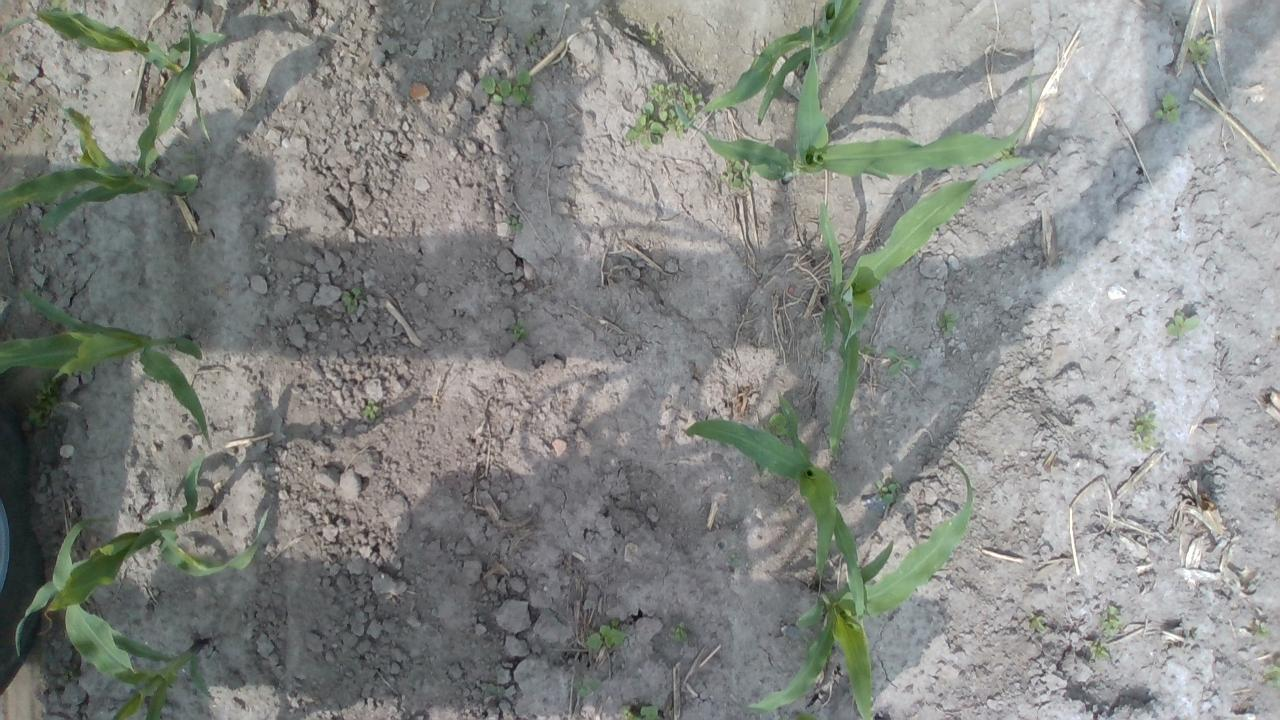Maize: (818, 156, 1039, 460), (674, 3, 1034, 185), (747, 462, 973, 720), (0, 452, 274, 658), (0, 12, 200, 234), (685, 386, 865, 618), (0, 289, 214, 448), (53, 517, 216, 720), (1, 0, 228, 142), (704, 0, 860, 128), (793, 709, 819, 720)
Weeds: (648, 80, 706, 131), (624, 101, 668, 148), (26, 379, 64, 430), (482, 68, 532, 106), (584, 618, 628, 650), (884, 346, 921, 379), (1152, 92, 1182, 126), (720, 160, 753, 190), (1132, 413, 1158, 451), (1166, 314, 1198, 342), (1100, 605, 1126, 637), (1184, 36, 1212, 64), (339, 286, 364, 316), (620, 704, 666, 720), (875, 480, 902, 506), (936, 307, 961, 335), (572, 676, 603, 697), (640, 26, 666, 50), (508, 314, 528, 342), (992, 142, 1017, 164), (1089, 638, 1110, 662), (770, 412, 790, 437), (1264, 658, 1280, 688), (362, 398, 382, 422), (670, 620, 689, 644), (1030, 614, 1050, 632), (484, 684, 506, 700), (1253, 626, 1272, 642), (504, 218, 524, 232), (523, 32, 538, 48), (0, 74, 12, 88)
